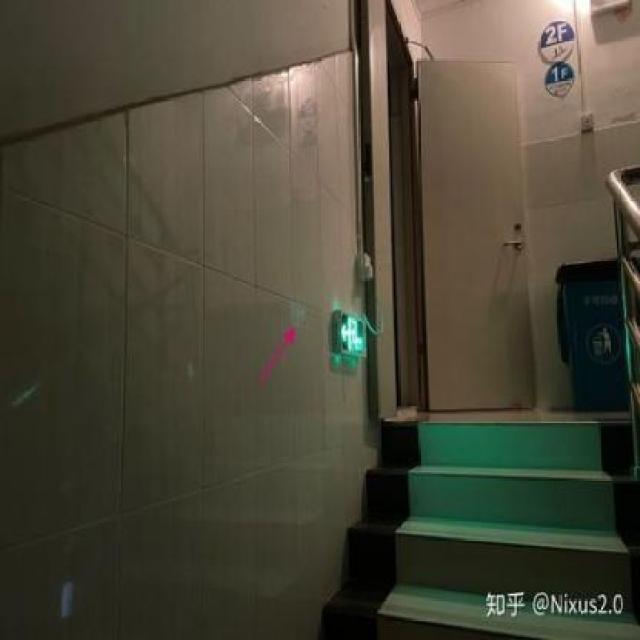exit_sign: (329, 298, 374, 362)
